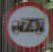Heavy Vehicles: (3, 2, 52, 49)
